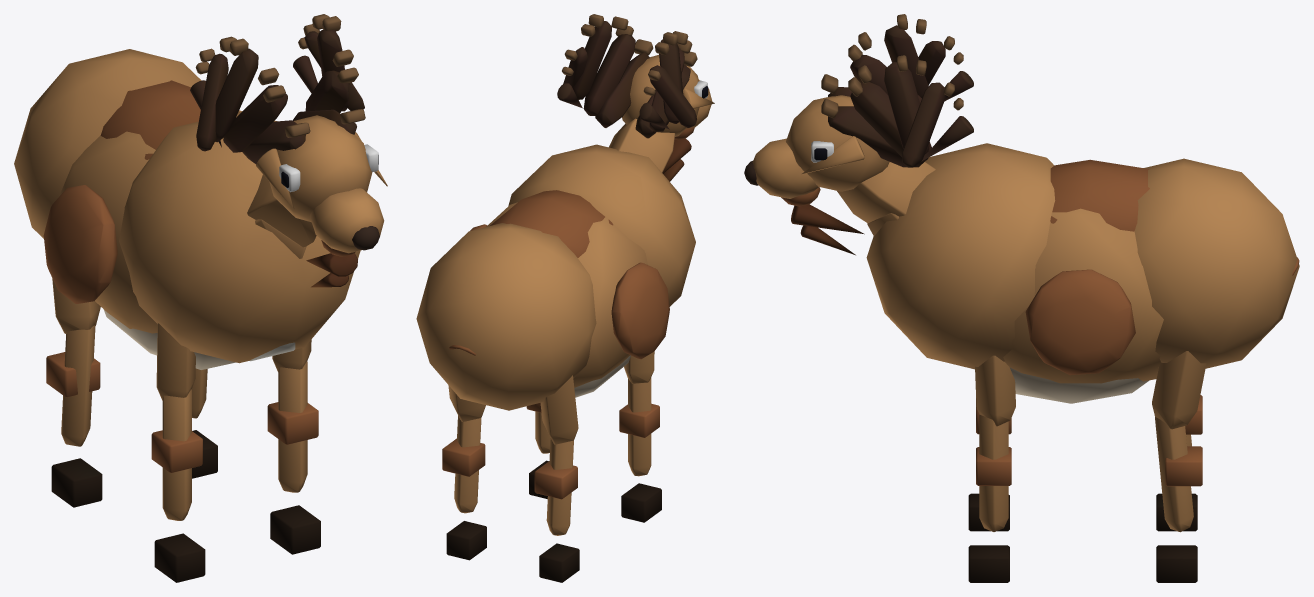
The model's file is ibex.glb.
The picture shows the model from 3 angles, left to right: view 1: azimuth 30°, elevation 25°; view 2: azimuth 150°, elevation 25°; view 3: azimuth 270°, elevation 25°; orthographic projection. The views are drawn at different scales.
Visible parts, largest first — view 1: ibex; view 2: ibex; view 3: ibex.
Boxes of the visible parts, x1=… form: ibex: x1=14, y1=14, x2=387, y2=582; ibex: x1=416, y1=14, x2=714, y2=582; ibex: x1=744, y1=14, x2=1299, y2=582.
Bounding box in the file's own units: 0.5743 × 1.21 × 1.18.
